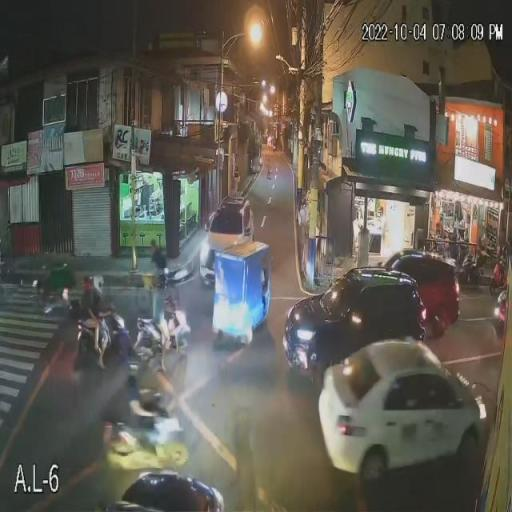helmet: (155, 270, 171, 290), (92, 274, 108, 294), (80, 272, 96, 292)
motorcycle: (102, 413, 190, 471), (131, 315, 197, 362), (71, 318, 135, 361)
rider: (125, 378, 166, 458), (150, 290, 170, 376), (92, 297, 113, 371), (79, 294, 101, 352)
